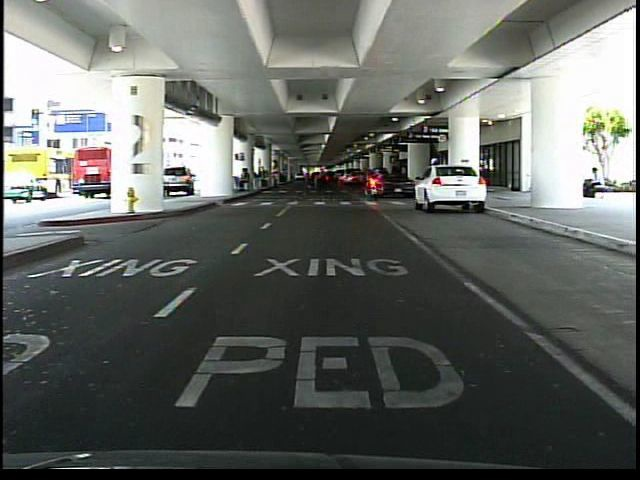person: (579, 162, 606, 200), (427, 153, 444, 207)
